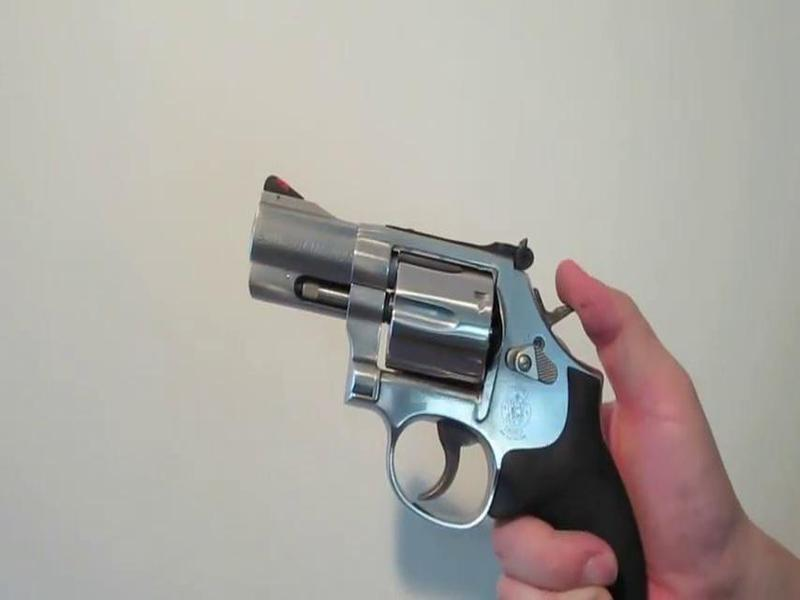Revolver: (216, 161, 706, 600)
